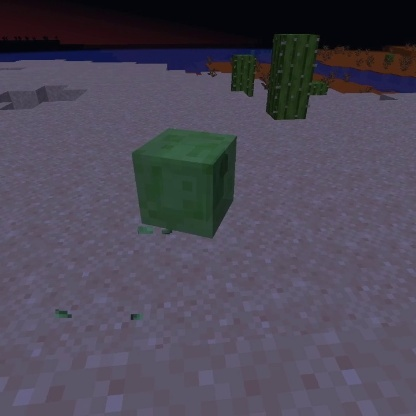slime: (129, 125, 242, 242)
